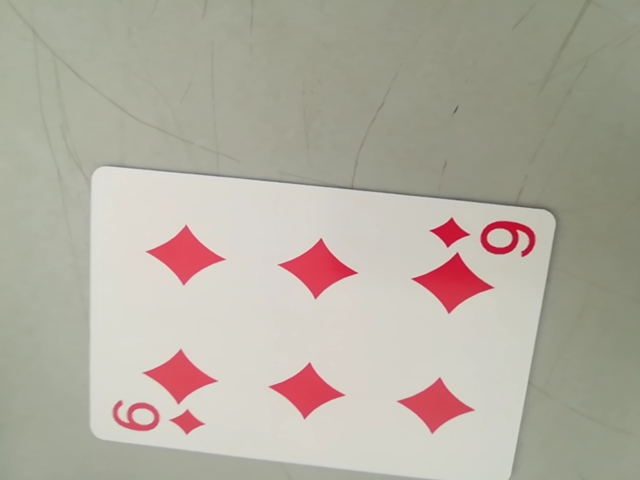fk 6: (427, 213, 541, 260), (105, 396, 208, 445)
